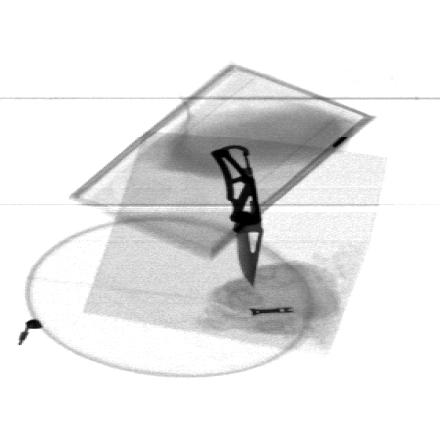Knife: (209, 144, 266, 290)
